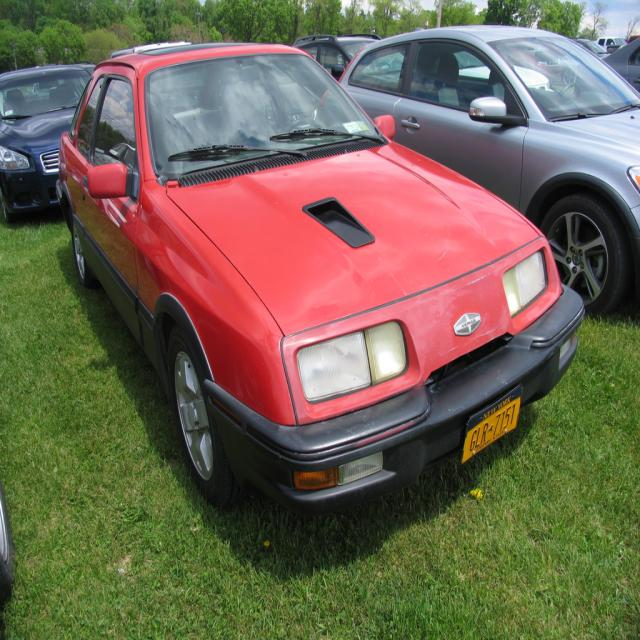car: (52, 36, 585, 511)
